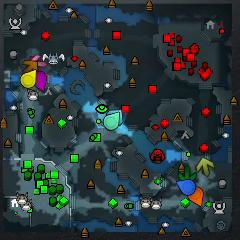p1: (177, 179, 195, 195)
p2: (104, 112, 120, 131)
p3: (35, 70, 47, 92)
p4: (20, 69, 37, 89)
p5: (187, 186, 203, 207)
x1: (31, 54, 47, 67)
x2: (197, 158, 215, 176)
x3: (107, 109, 123, 125)
x4: (179, 166, 196, 182)
x5: (22, 60, 38, 73)
